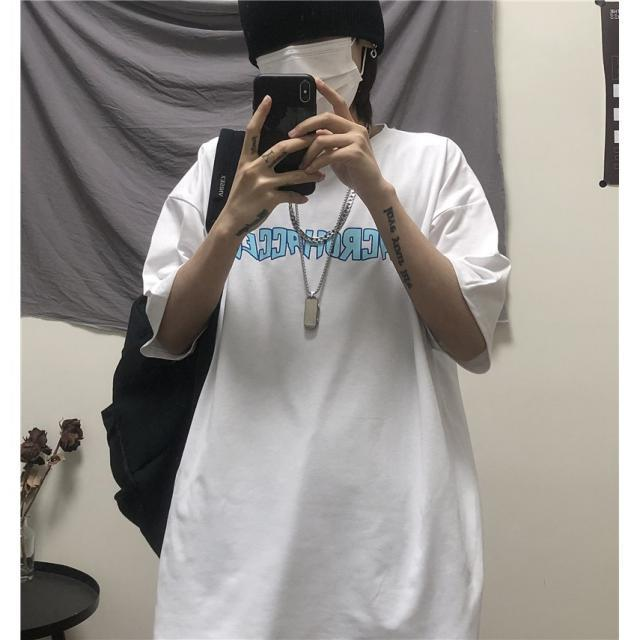Shirt: (133, 116, 509, 639)
